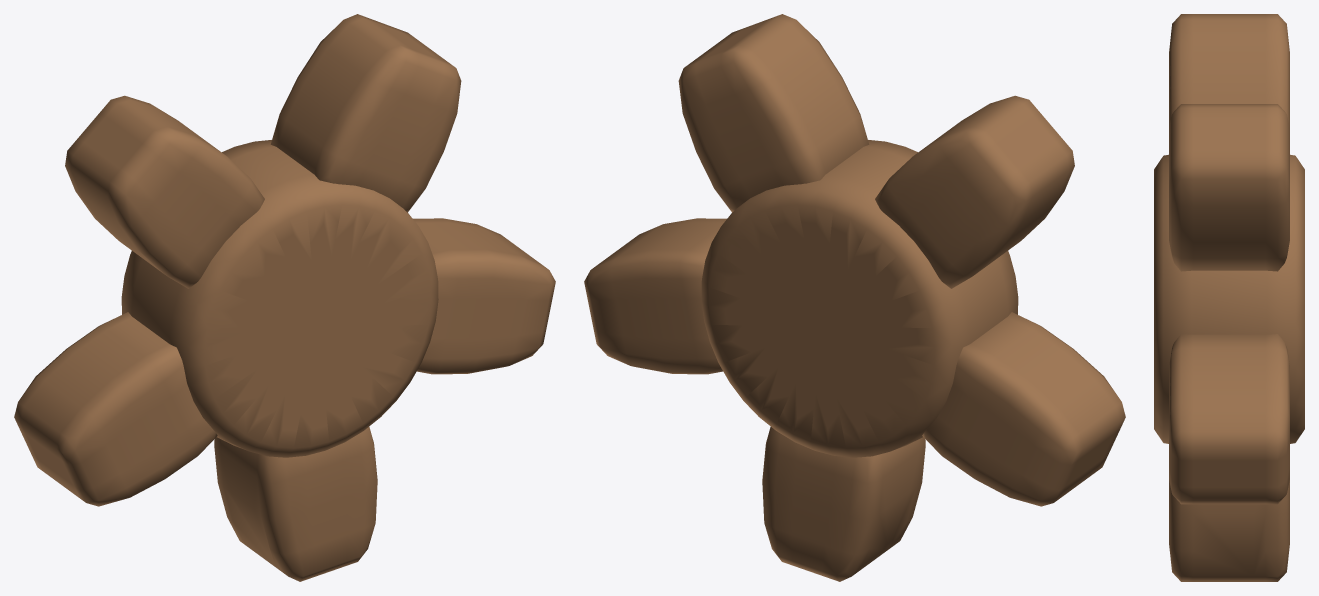
The model's file is GearSmall.obj.
3 views of the same model, side by side, from view 1: azimuth 30°, elevation 25°; view 2: azimuth 150°, elevation 25°; view 3: azimuth 270°, elevation 25° (orthographic).
Visible parts, largest first — view 1: WheelSmall1 Gear1 IslandCloudFactory1 ArchipelagoCloudFactory1 W, WheelSmallCenter1 WheelSmall1 Gear1 IslandCloudFactory1 Archipel; view 2: WheelSmall1 Gear1 IslandCloudFactory1 ArchipelagoCloudFactory1 W, WheelSmallCenter1 WheelSmall1 Gear1 IslandCloudFactory1 Archipel; view 3: WheelSmall1 Gear1 IslandCloudFactory1 ArchipelagoCloudFactory1 W, WheelSmallCenter1 WheelSmall1 Gear1 IslandCloudFactory1 Archipel.
Boxes of the visible parts, x1,y1,x2,y2 form: WheelSmall1 Gear1 IslandCloudFactory1 ArchipelagoCloudFactory1 W: (14,14,555,581); WheelSmallCenter1 WheelSmall1 Gear1 IslandCloudFactory1 Archipel: (121,140,438,457); WheelSmall1 Gear1 IslandCloudFactory1 ArchipelagoCloudFactory1 W: (584,14,1125,581); WheelSmallCenter1 WheelSmall1 Gear1 IslandCloudFactory1 Archipel: (701,140,1018,457); WheelSmall1 Gear1 IslandCloudFactory1 ArchipelagoCloudFactory1 W: (1169,14,1289,581); WheelSmallCenter1 WheelSmall1 Gear1 IslandCloudFactory1 Archipel: (1154,154,1304,443).
Size of the model in its own units: 21.74 by 21.34 by 5.8.
